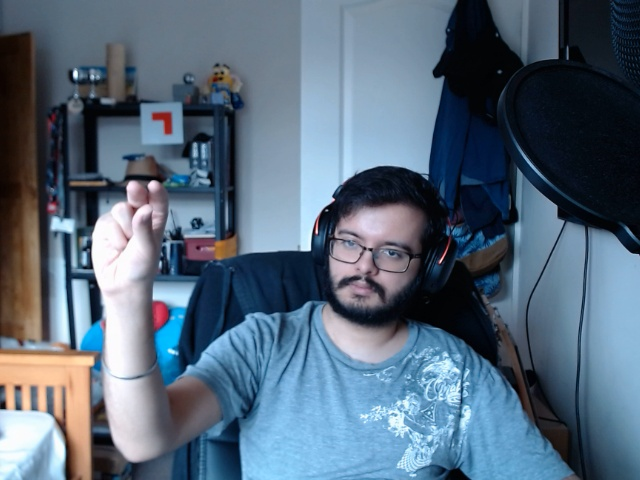No: (76, 174, 183, 297)
